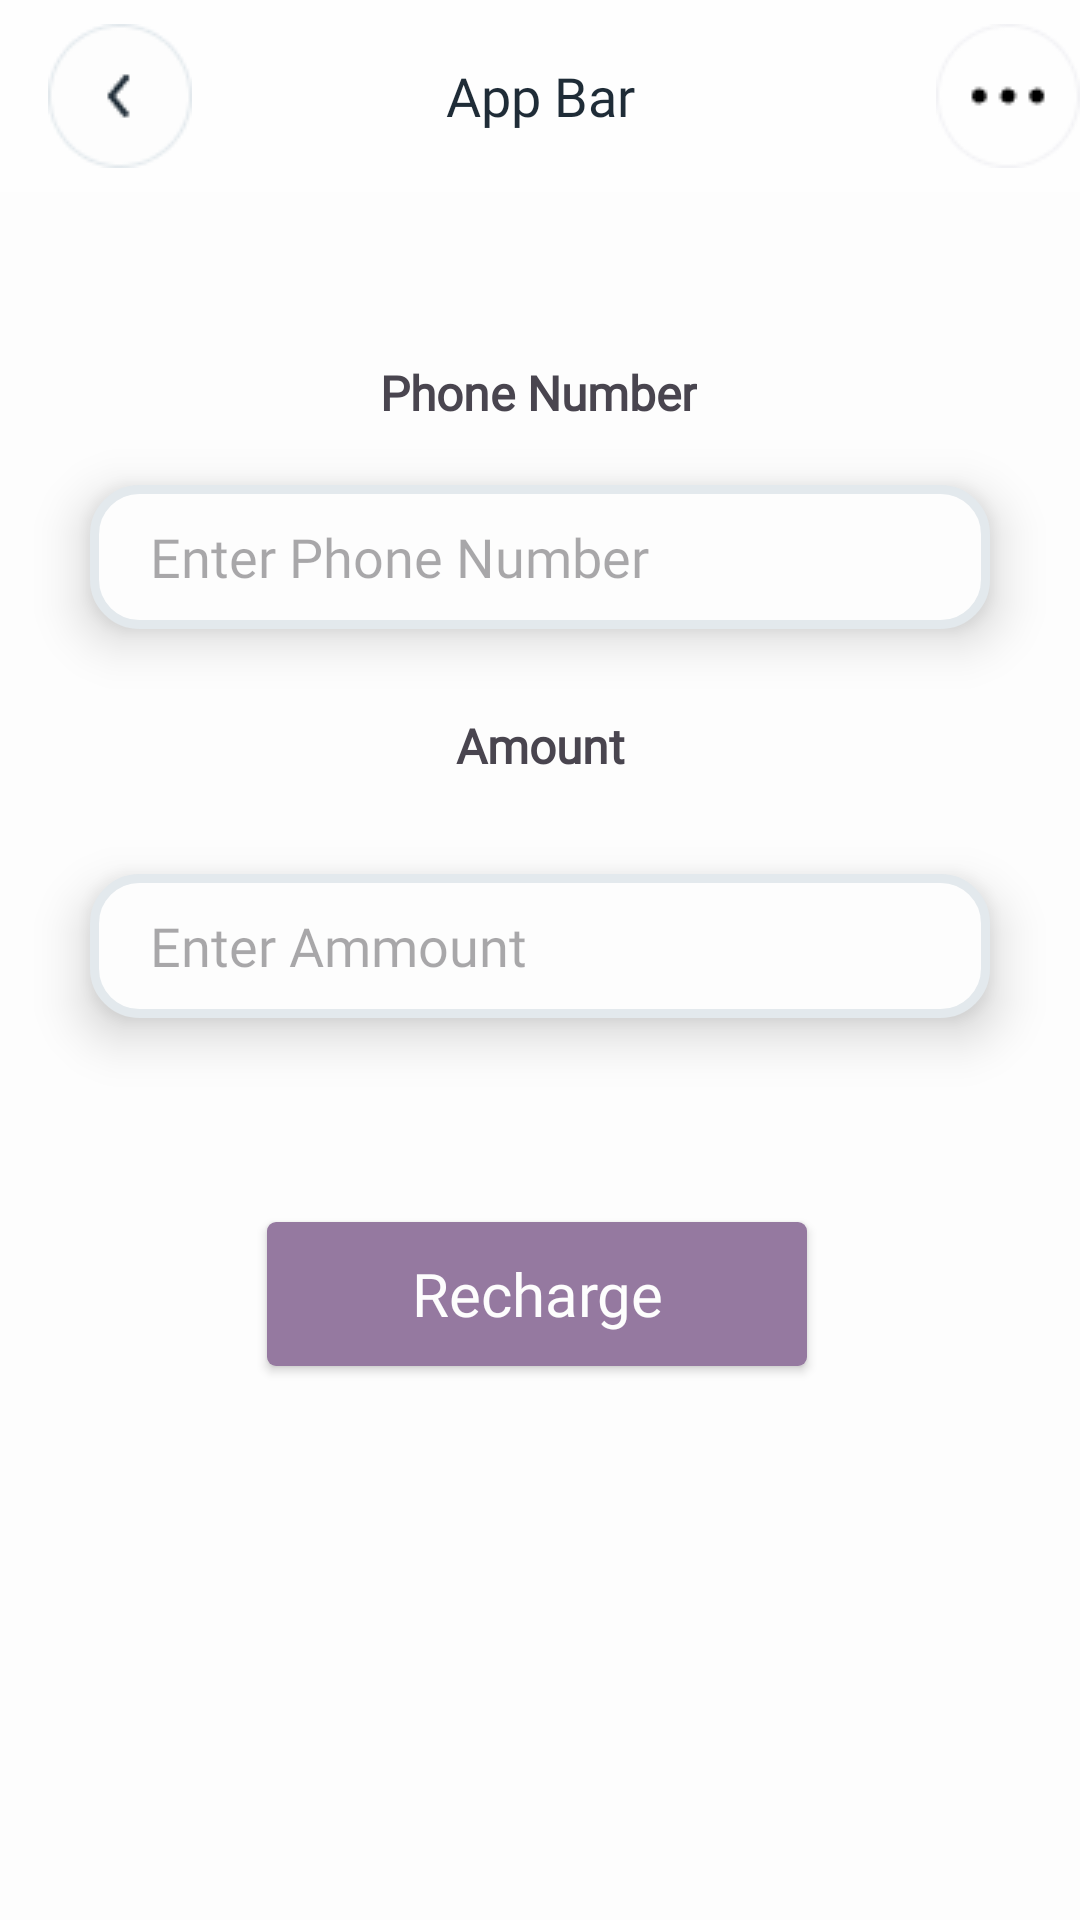

Named icons in this screenshot (1080×1920) and their bounding boxes, (x1, y1, x2, y2):
arrow back: (48, 24, 192, 168)
three dot: (971, 86, 1045, 106)
